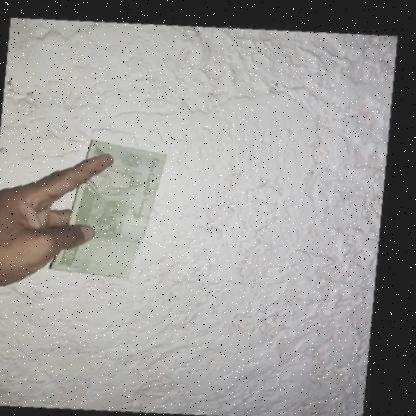fifty-back-vef: (43, 128, 183, 286)
